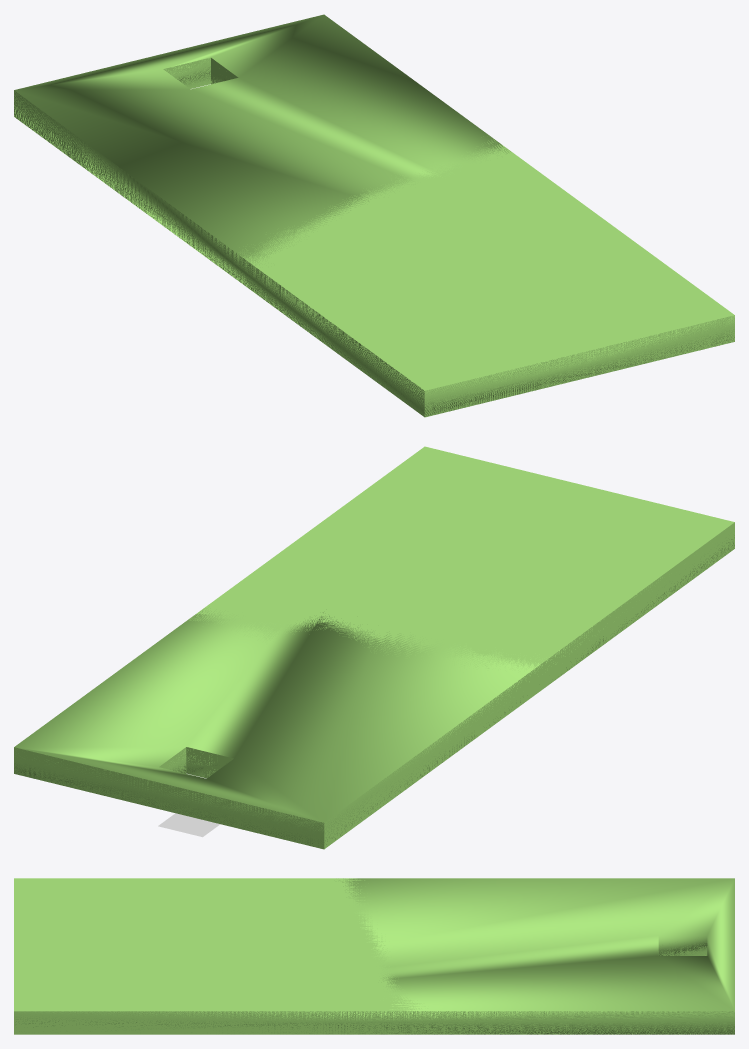
File: BookMark.fbx
3 views of the same model, one above another, from view 1: azimuth 30°, elevation 25°; view 2: azimuth 150°, elevation 25°; view 3: azimuth 270°, elevation 25° (orthographic). The views are drawn at different scales.
Visible parts, largest first — view 1: 平面, 平面.002; view 2: 平面, 平面.002, 平面.001; view 3: 平面, 平面.002.
Part boxes in pixels (left/top/right/bottom): 平面: left=14, top=57, right=734, bottom=417; 平面.002: left=14, top=14, right=734, bottom=416; 平面: left=14, top=446, right=734, bottom=849; 平面.002: left=14, top=535, right=734, bottom=845; 平面.001: left=158, top=813, right=220, bottom=837; 平面: left=14, top=878, right=734, bottom=1034; 平面.002: left=14, top=878, right=734, bottom=1034.
Size of the model in its own units: 89.19 by 15.08 by 205.
